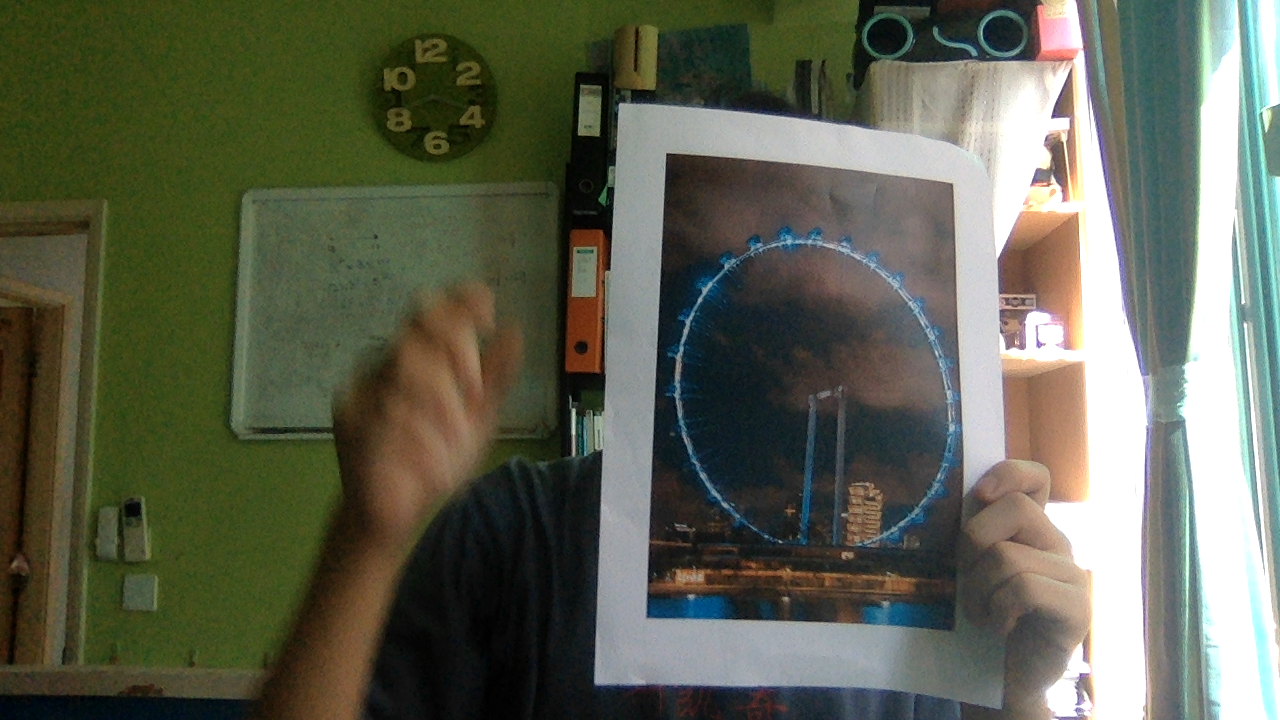Flyer: (662, 147, 963, 650)
